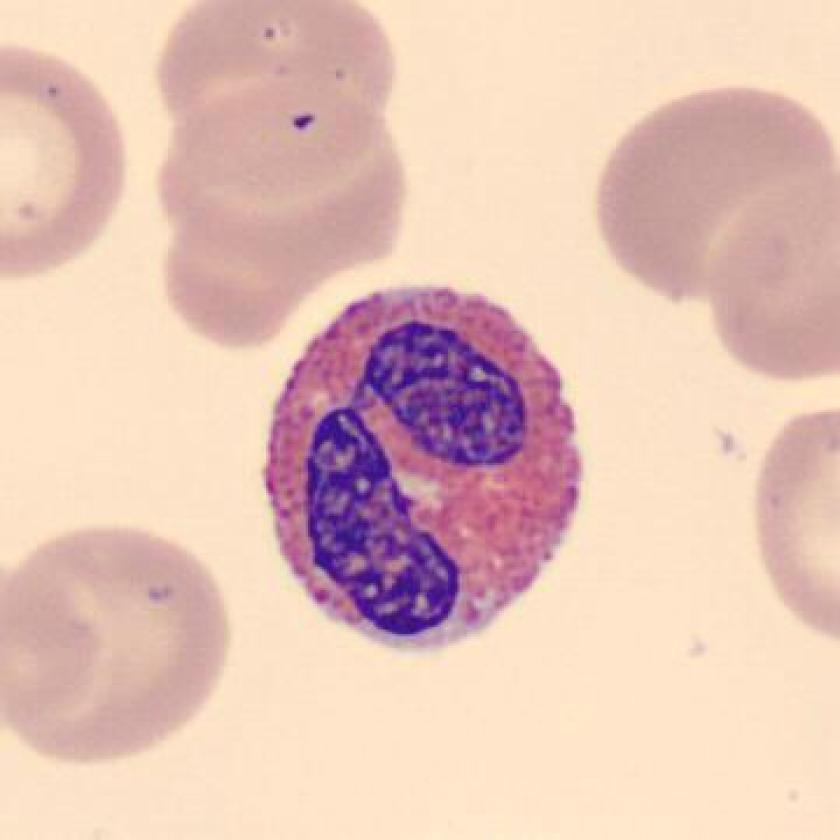eosinophil: (249, 267, 599, 672)
